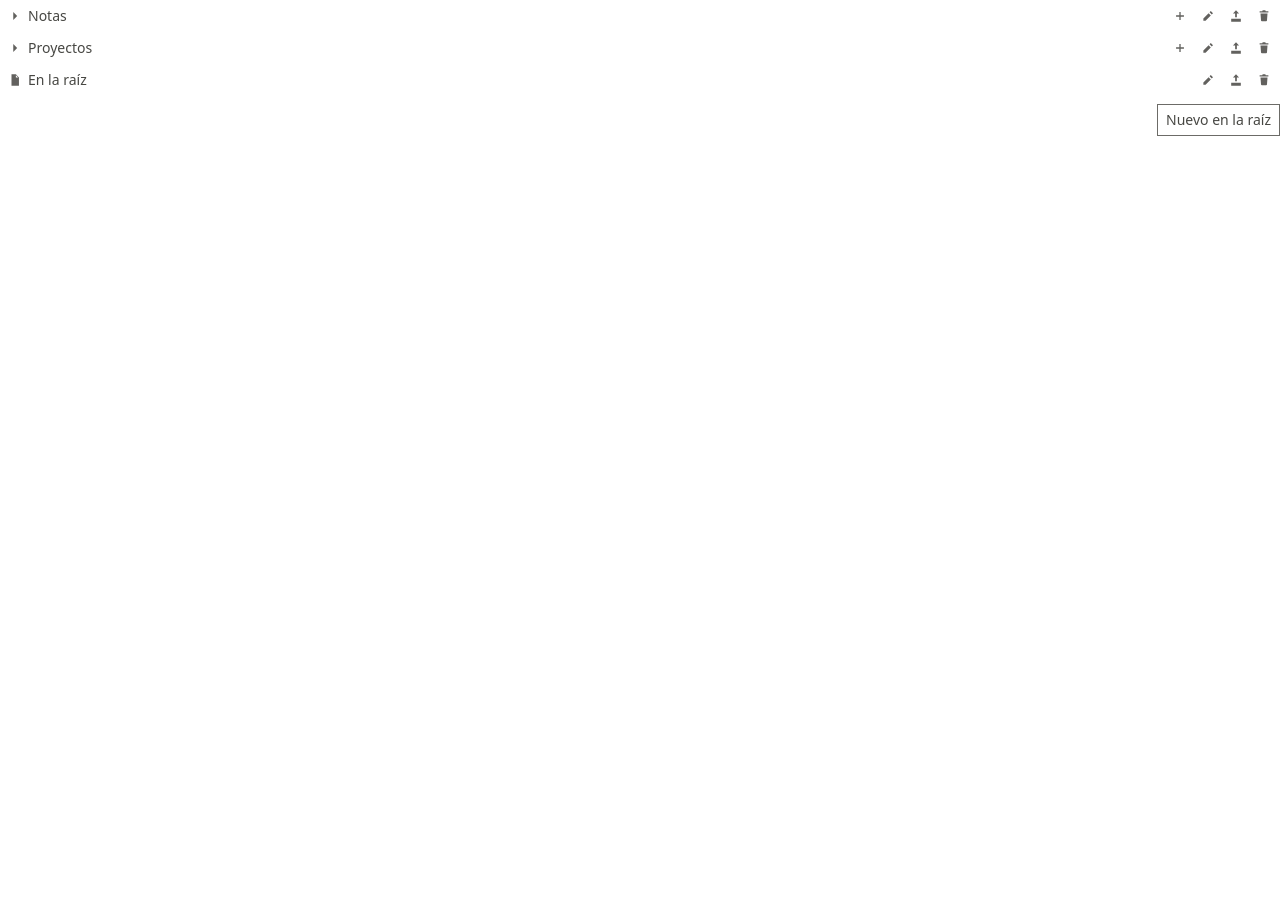
Test case: MoveNodeDialog — destinos ofrecidos (AC-30) › excluye el propio directorio y todos sus descendientes, aunque estén plegados
Step 1. Click the button named "Mover «Notas»" → [1236, 16], box [1224,4,1248,28]
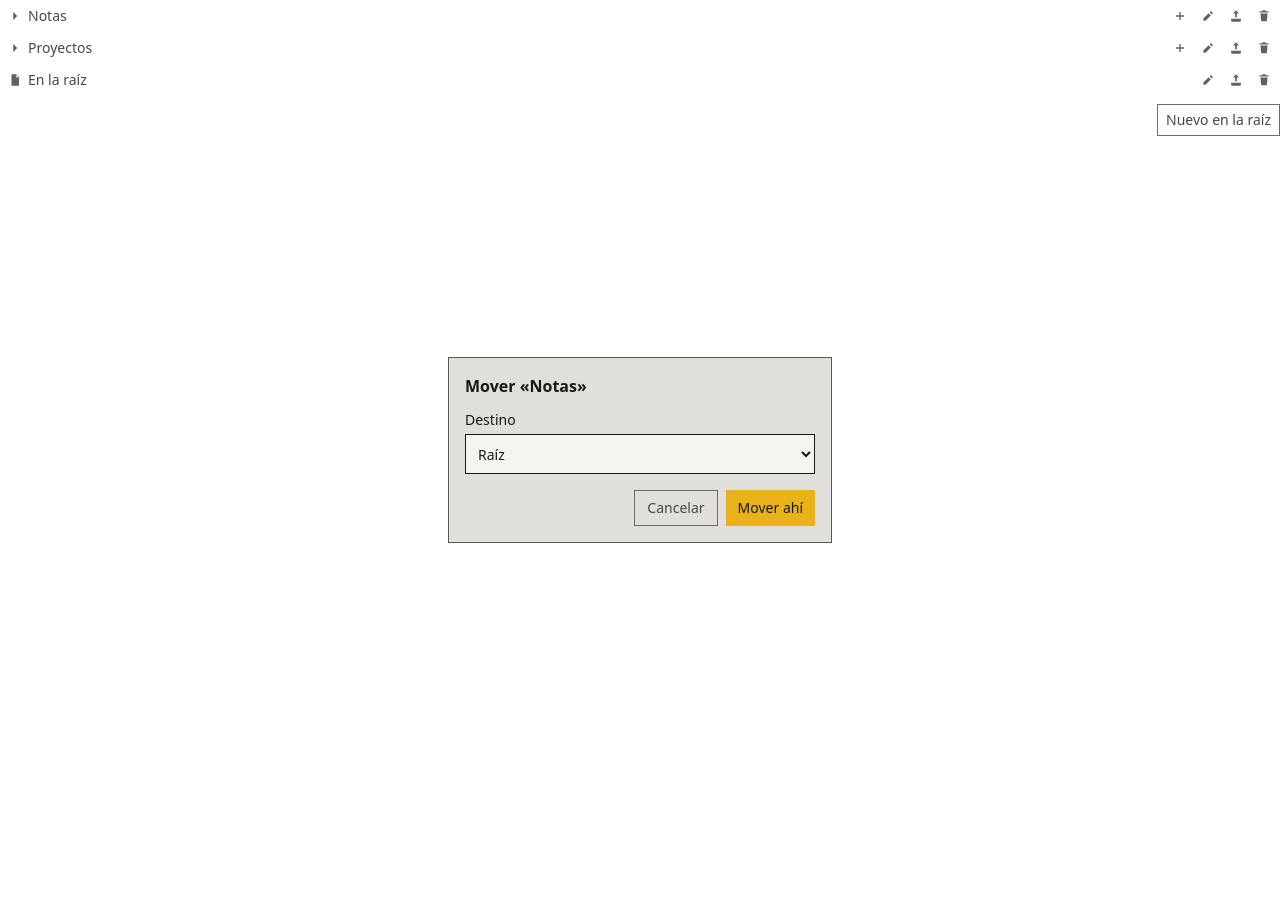
Expected: the dialog "Mover «Notas»" is shown, [448,357,832,543]
